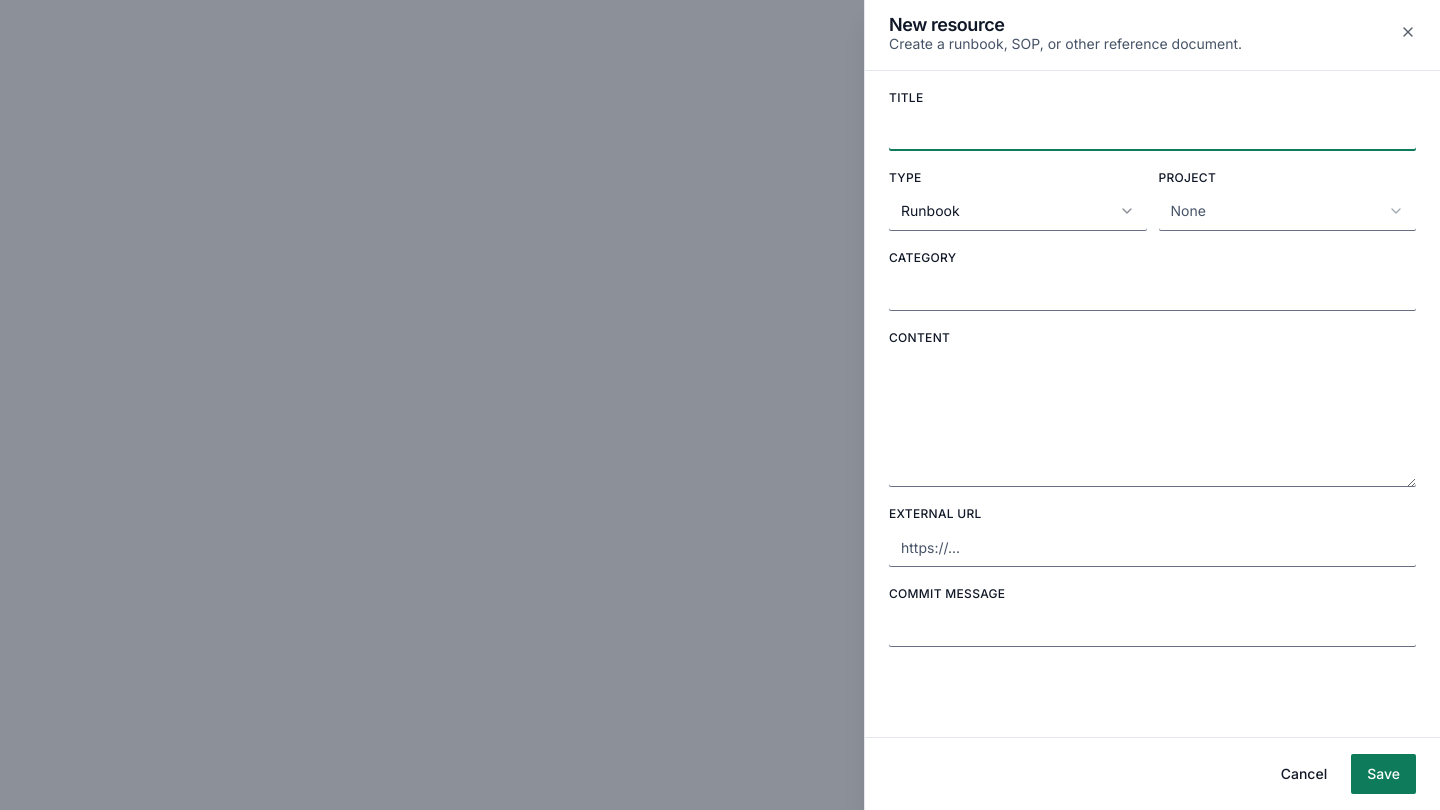
Test case: ResourceEditorSheet — create mode › renders all 7 resource types in the Type select (shared RESOURCE_TYPES constant, not a locally-duplicated list)
Click the dropdown named "Type": (1018, 211) [889,191,1146,231]
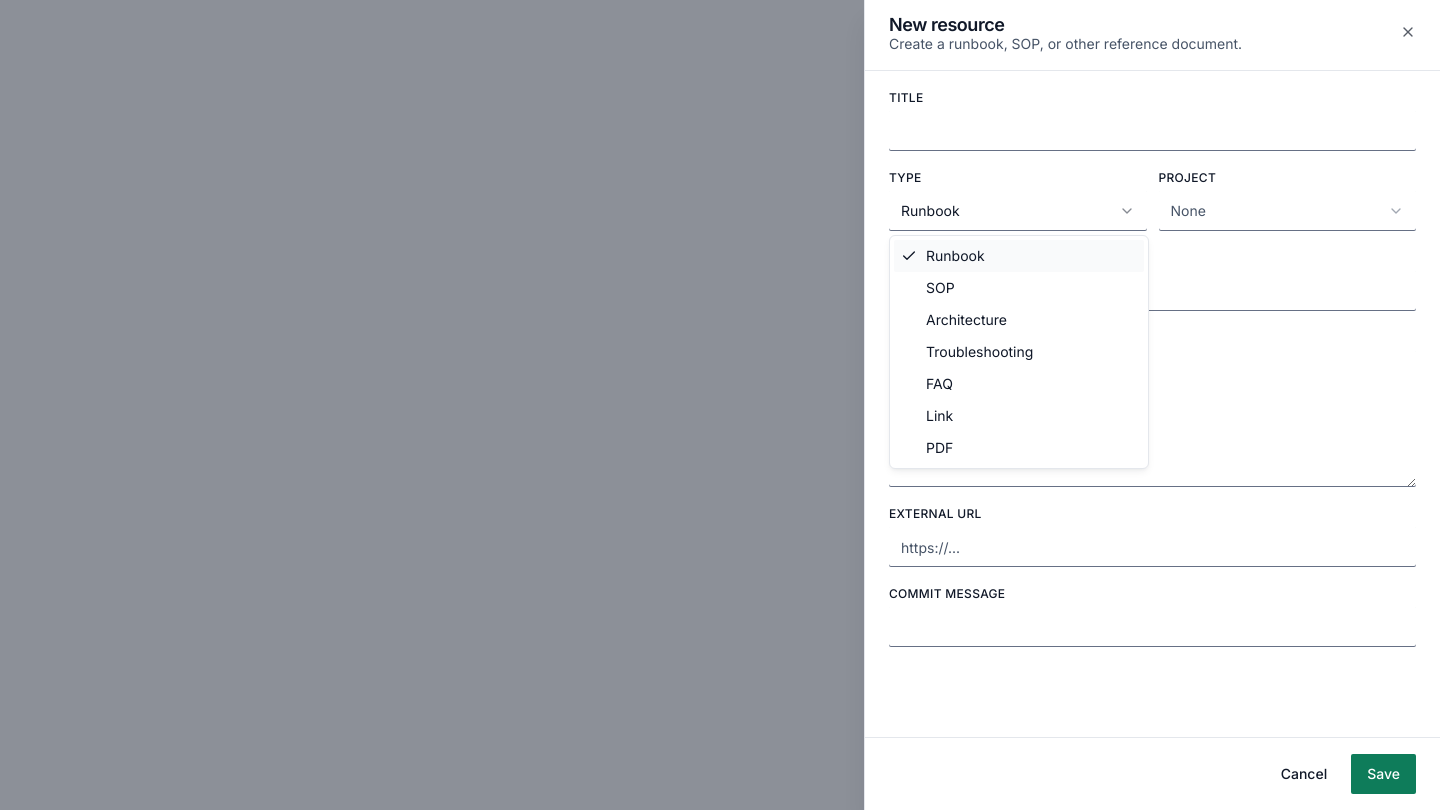
Expected: the option "Runbook" is shown, [894,240,1144,272]
Expected: the option "SOP" is shown, [926,279,955,296]
Expected: the option "Architecture" is shown, [926,311,1007,328]
